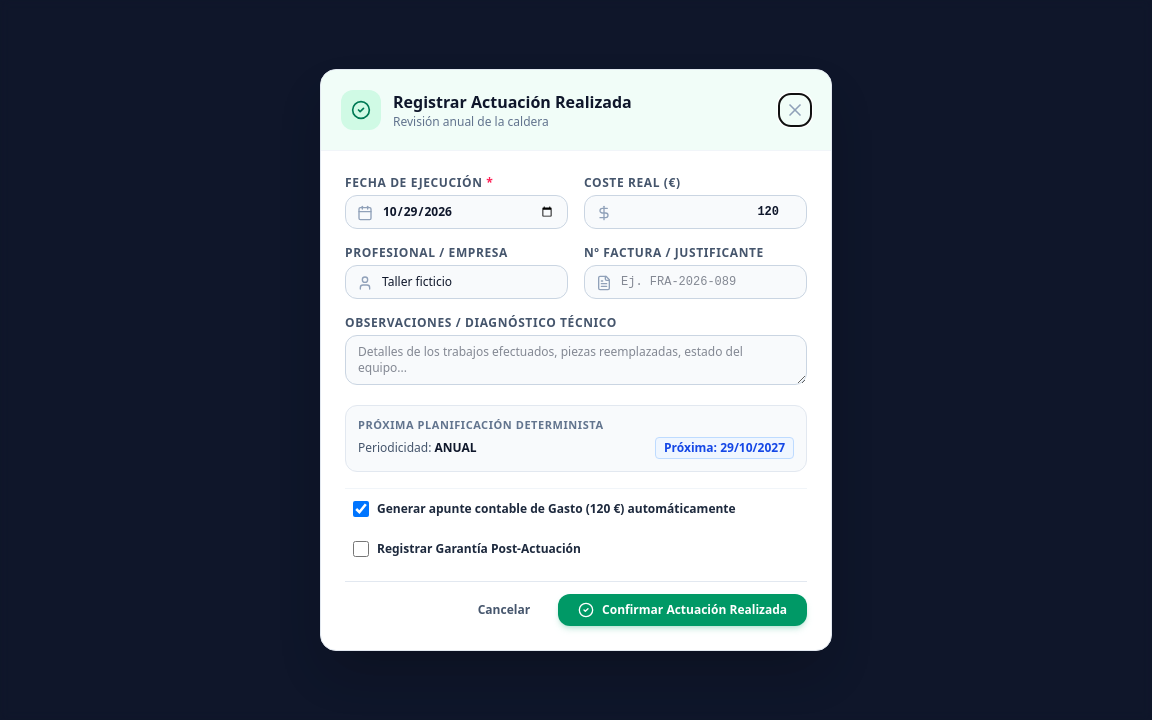
BLOQUE 5 · RegistrarActuacionModal (persistencia verificable e idempotencia) › un fallo al guardar la tarea llega al modal y no produce cierre/éxito
This screenshot has width=1152, height=720.
Click the checkbox labelled "Registrar Garantía Post-Actuación" at (361, 549), box left=353, top=541, right=369, bottom=557
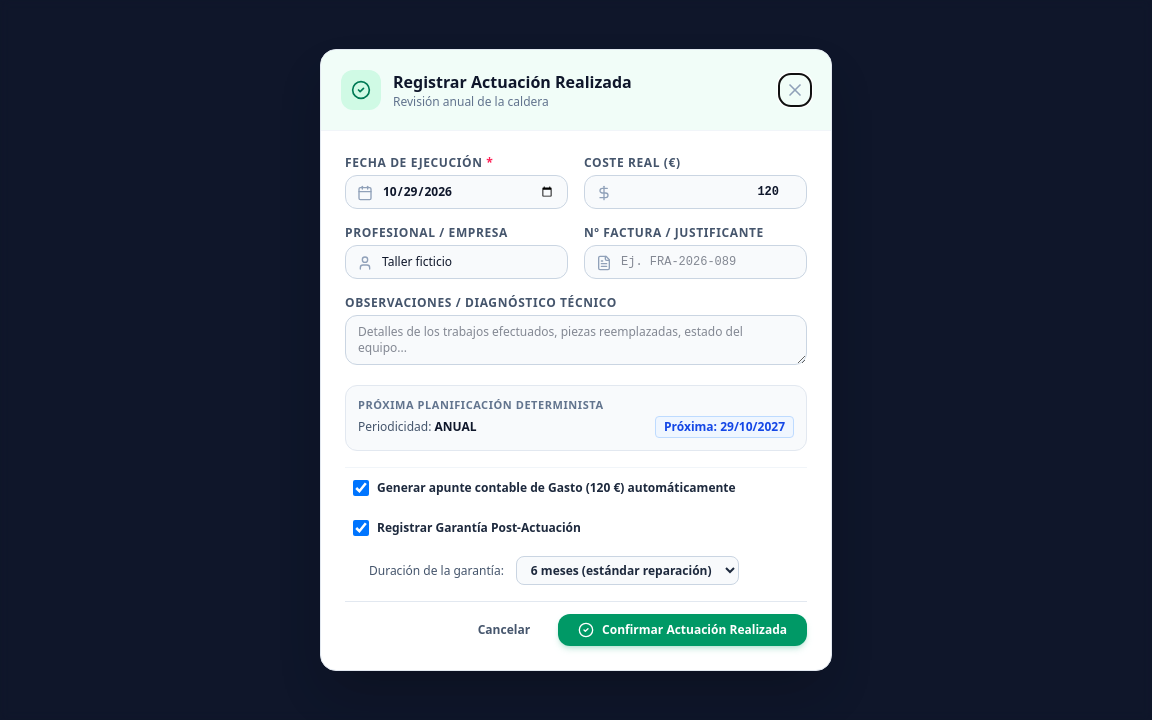
Type "2026-03-02" into the date field at (456, 192), box left=345, top=175, right=568, bottom=209
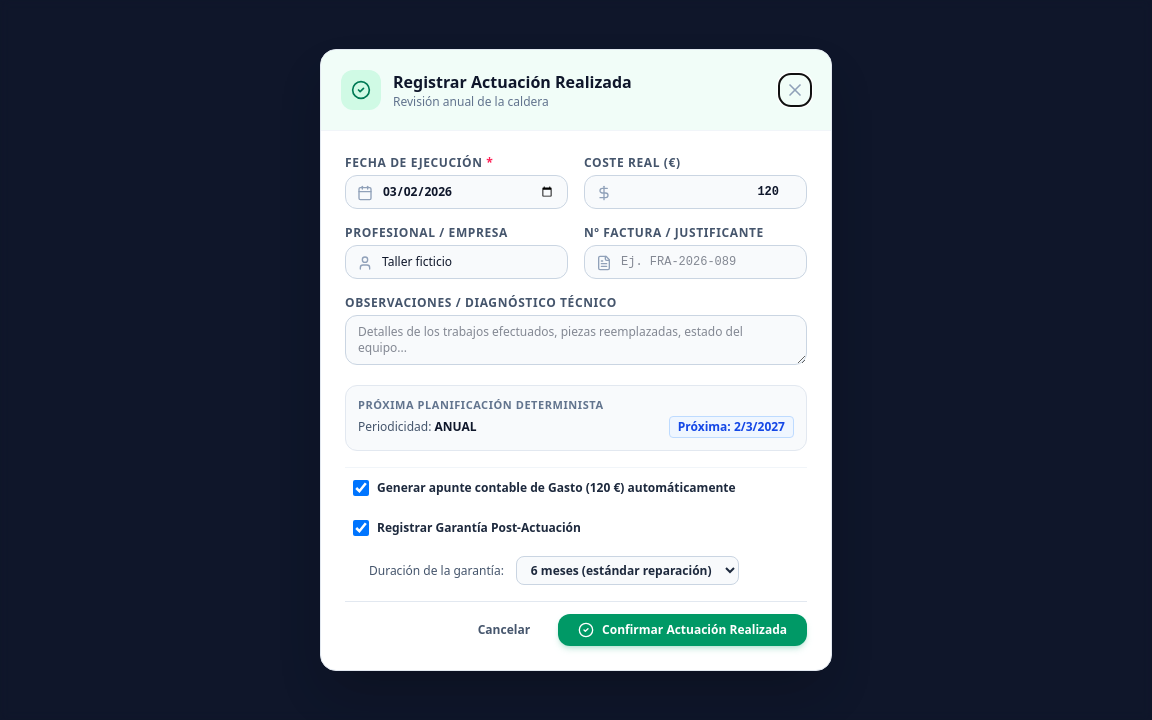
Click the button "Confirmar Actuación Realizada" at (683, 630), box left=558, top=614, right=807, bottom=646
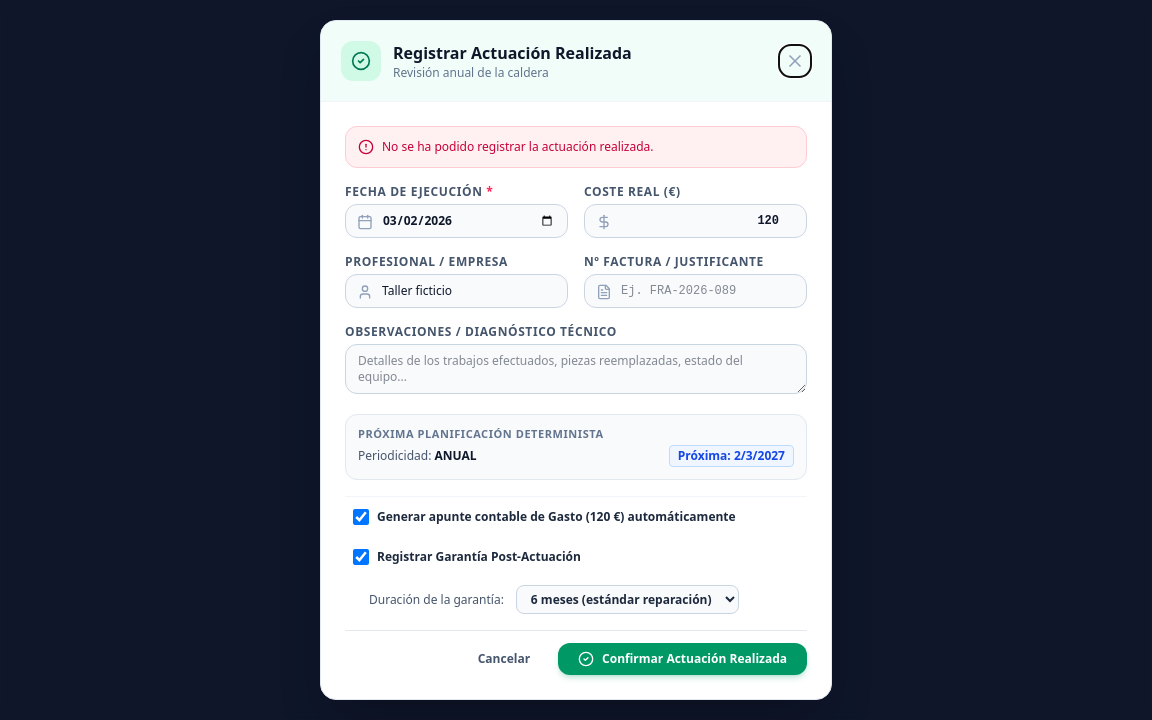
Expected: the text "No se ha podido registrar la actuación realizada." is shown, left=382, top=139, right=654, bottom=155
